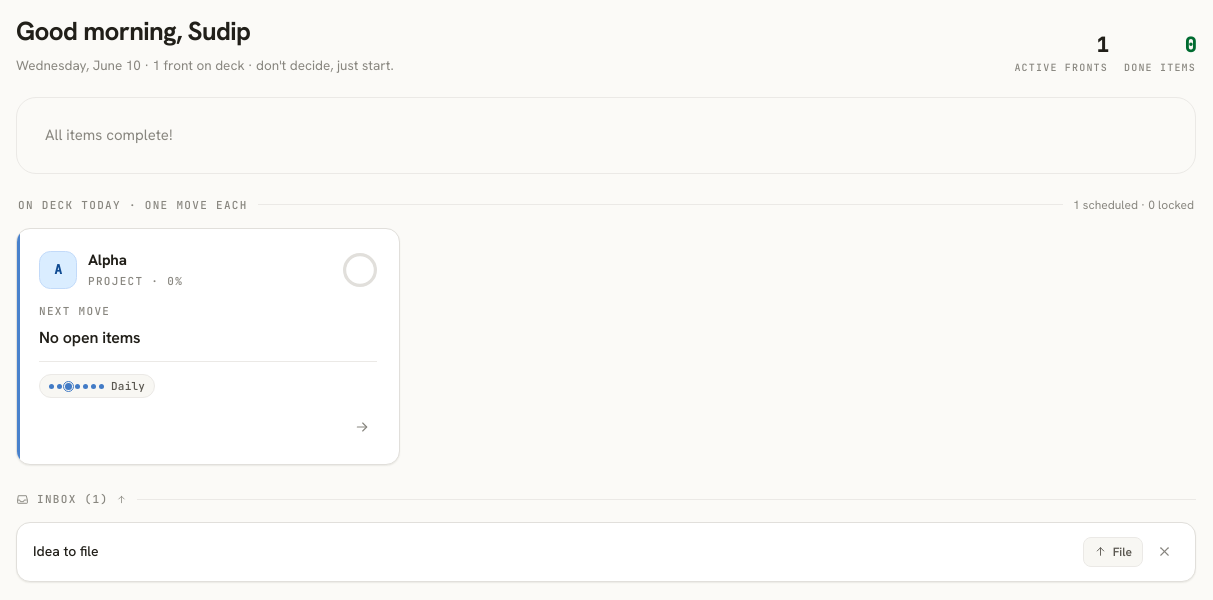
Test: HomeView › File button shows a front picker
What coordinates should you click on to do the following:
click the button "File"
I would click on:
 (1113, 552)
Its box is [1083,537,1143,567].
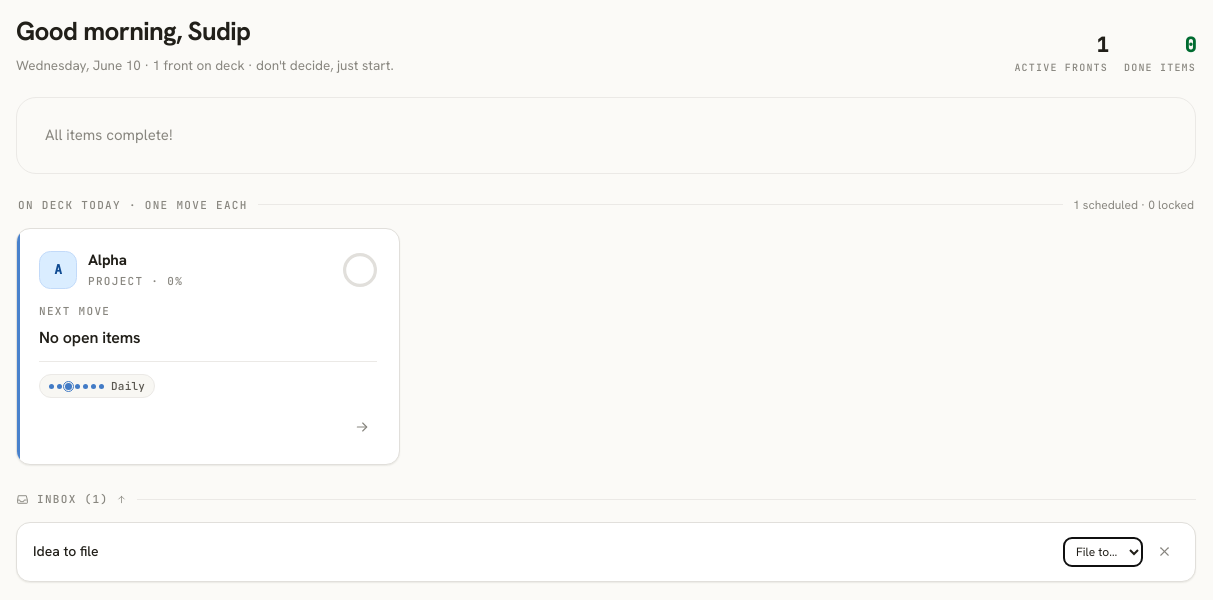
Expected: the dropdown named "File to front" is shown, [1063,537,1143,567]
